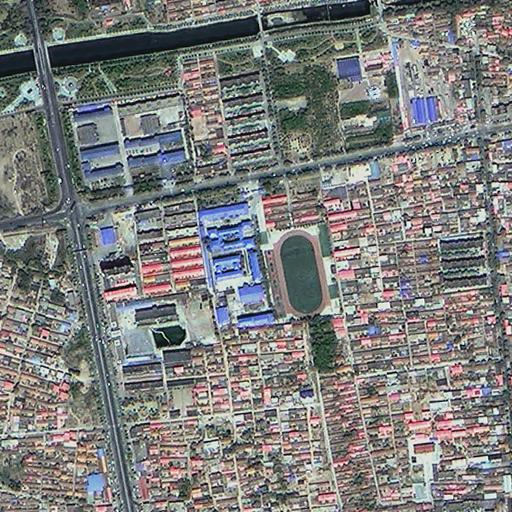school: (198, 201, 332, 330), (69, 93, 187, 182), (112, 294, 213, 365)
